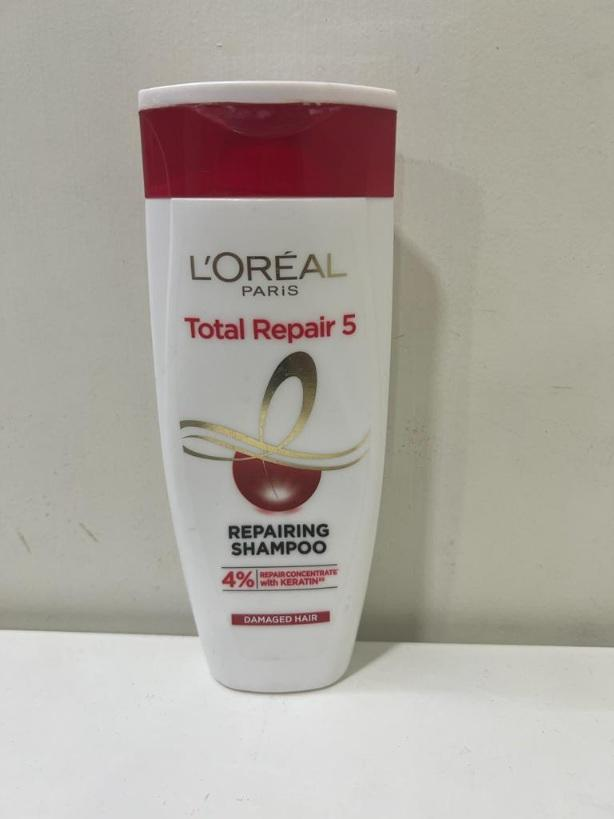Loreal: (137, 84, 407, 677)
